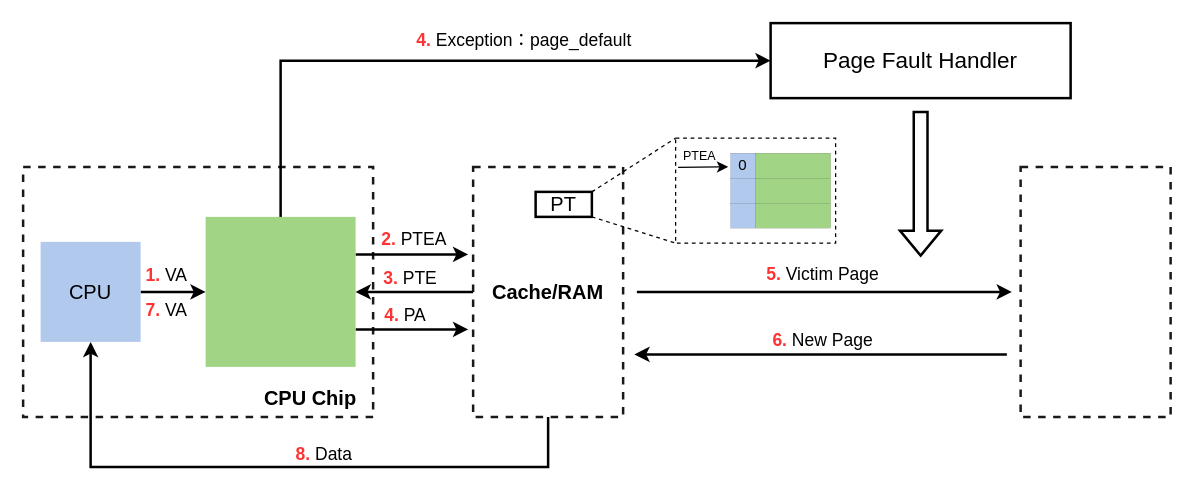
Image size: 1193x499. Some labels were removed from this diagram. The shapes that lost their labels are listed below. From the top down, each one's centre as x and y in pixels, then its label:
point (280, 291): MMU
point (1095, 291): Disk
